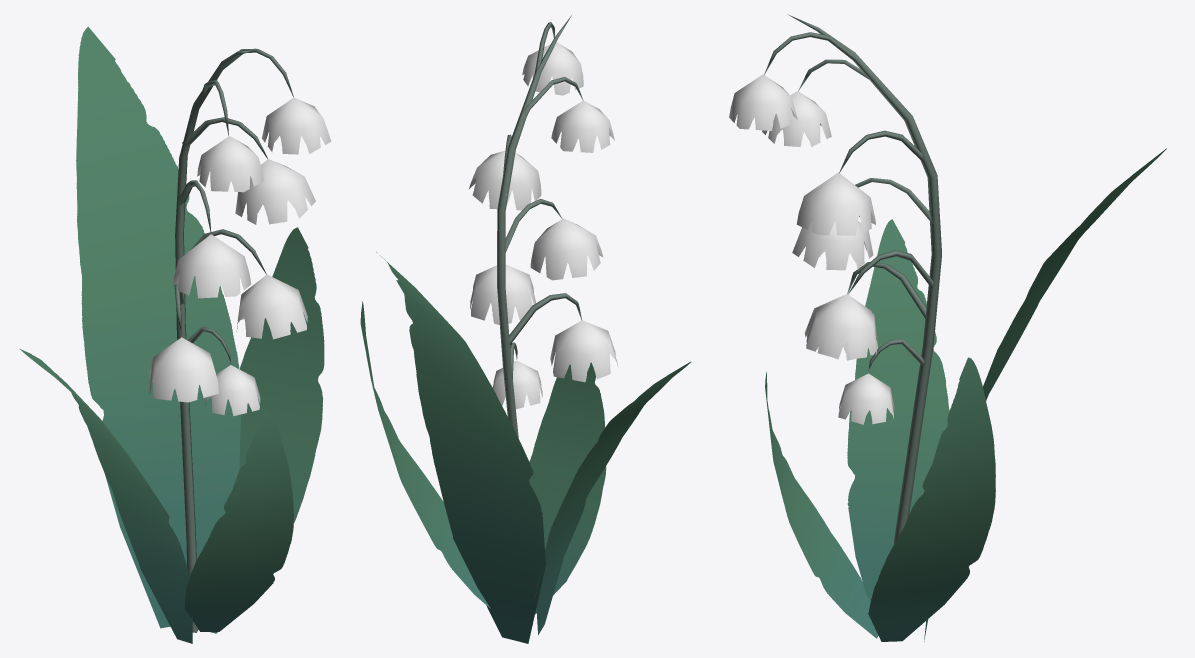
3 renders of one model, left to right at view 1: azimuth 30°, elevation 25°; view 2: azimuth 150°, elevation 25°; view 3: azimuth 270°, elevation 25°, orthographic. The views are drawn at different scales.
Visible parts, largest first — view 1: submesh_0; view 2: submesh_0; view 3: submesh_0.
Boxes of the visible parts, box(x1,y1,x2,y2) form: submesh_0: box(19, 26, 331, 643); submesh_0: box(360, 15, 690, 643); submesh_0: box(729, 14, 1166, 641).
Size of the model in its own units: 0.3729 by 0.6659 by 0.4354.
1 material, 1 textured.
